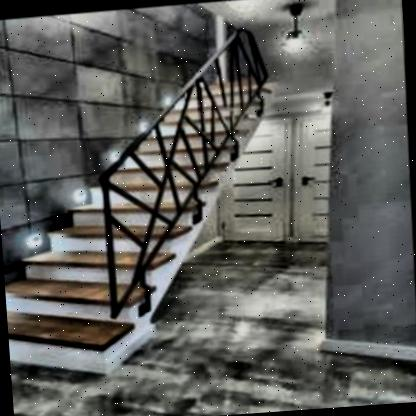stair: (0, 60, 280, 376)
